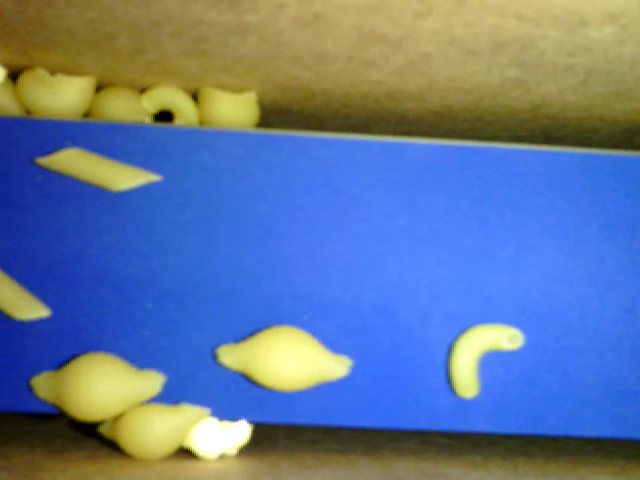elbow: (449, 323, 525, 401), (138, 85, 203, 127)
penne: (29, 144, 163, 194), (1, 273, 55, 320)
shell: (215, 324, 352, 394), (29, 353, 168, 421), (96, 398, 213, 460), (16, 65, 95, 120), (85, 85, 153, 125), (199, 87, 260, 131)
